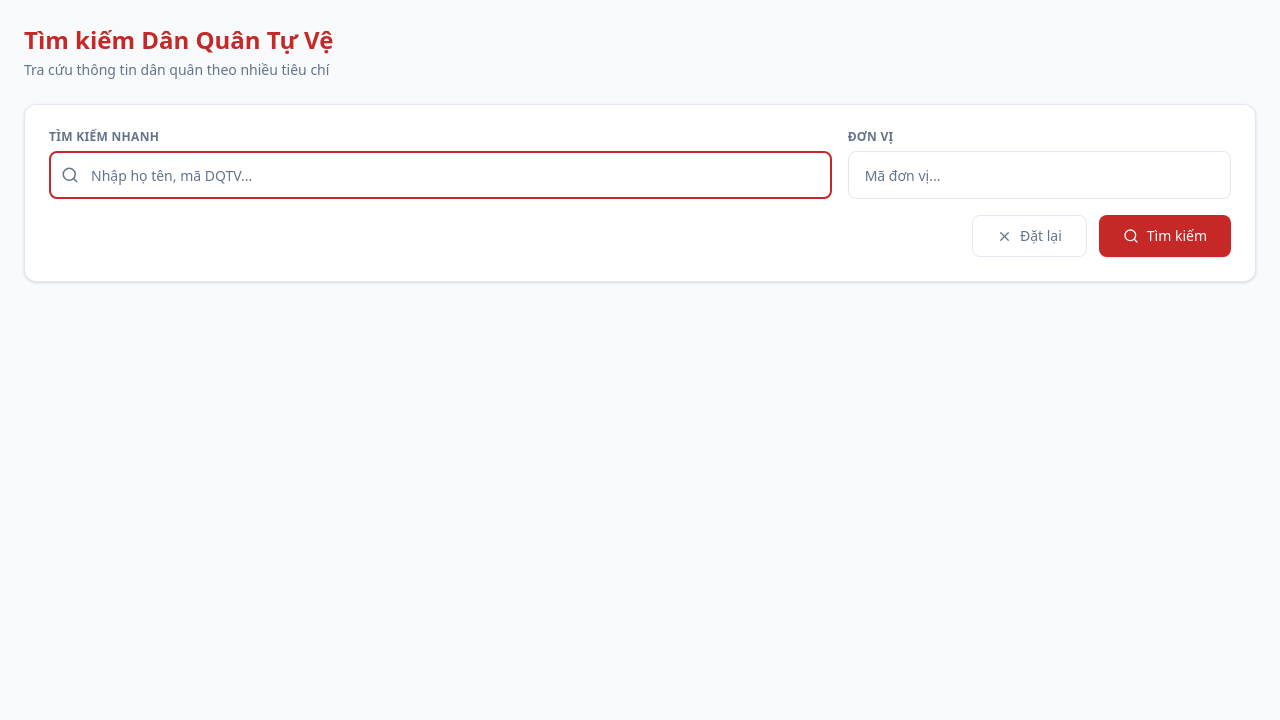
it: MilitiaSearchPage › shows results after clicking search
Click the button with test id "search-btn": (1165, 236) x1=1099 y1=215 x2=1231 y2=257
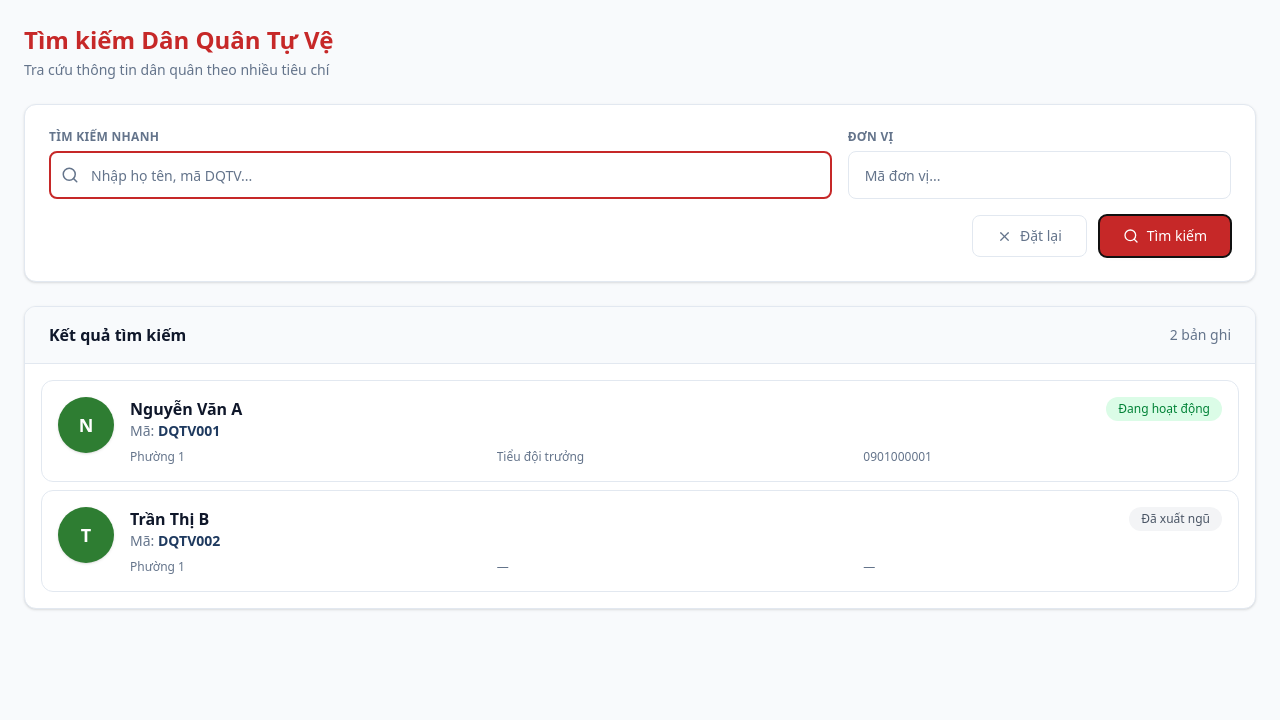
Expected: the element with test id "search-results" is shown, x1=24 y1=306 x2=1256 y2=609
Expected: the heading "Nguyễn Văn A" is shown, x1=130 y1=397 x2=242 y2=421
Expected: the text "DQTV001" is shown, x1=158 y1=421 x2=220 y2=440
